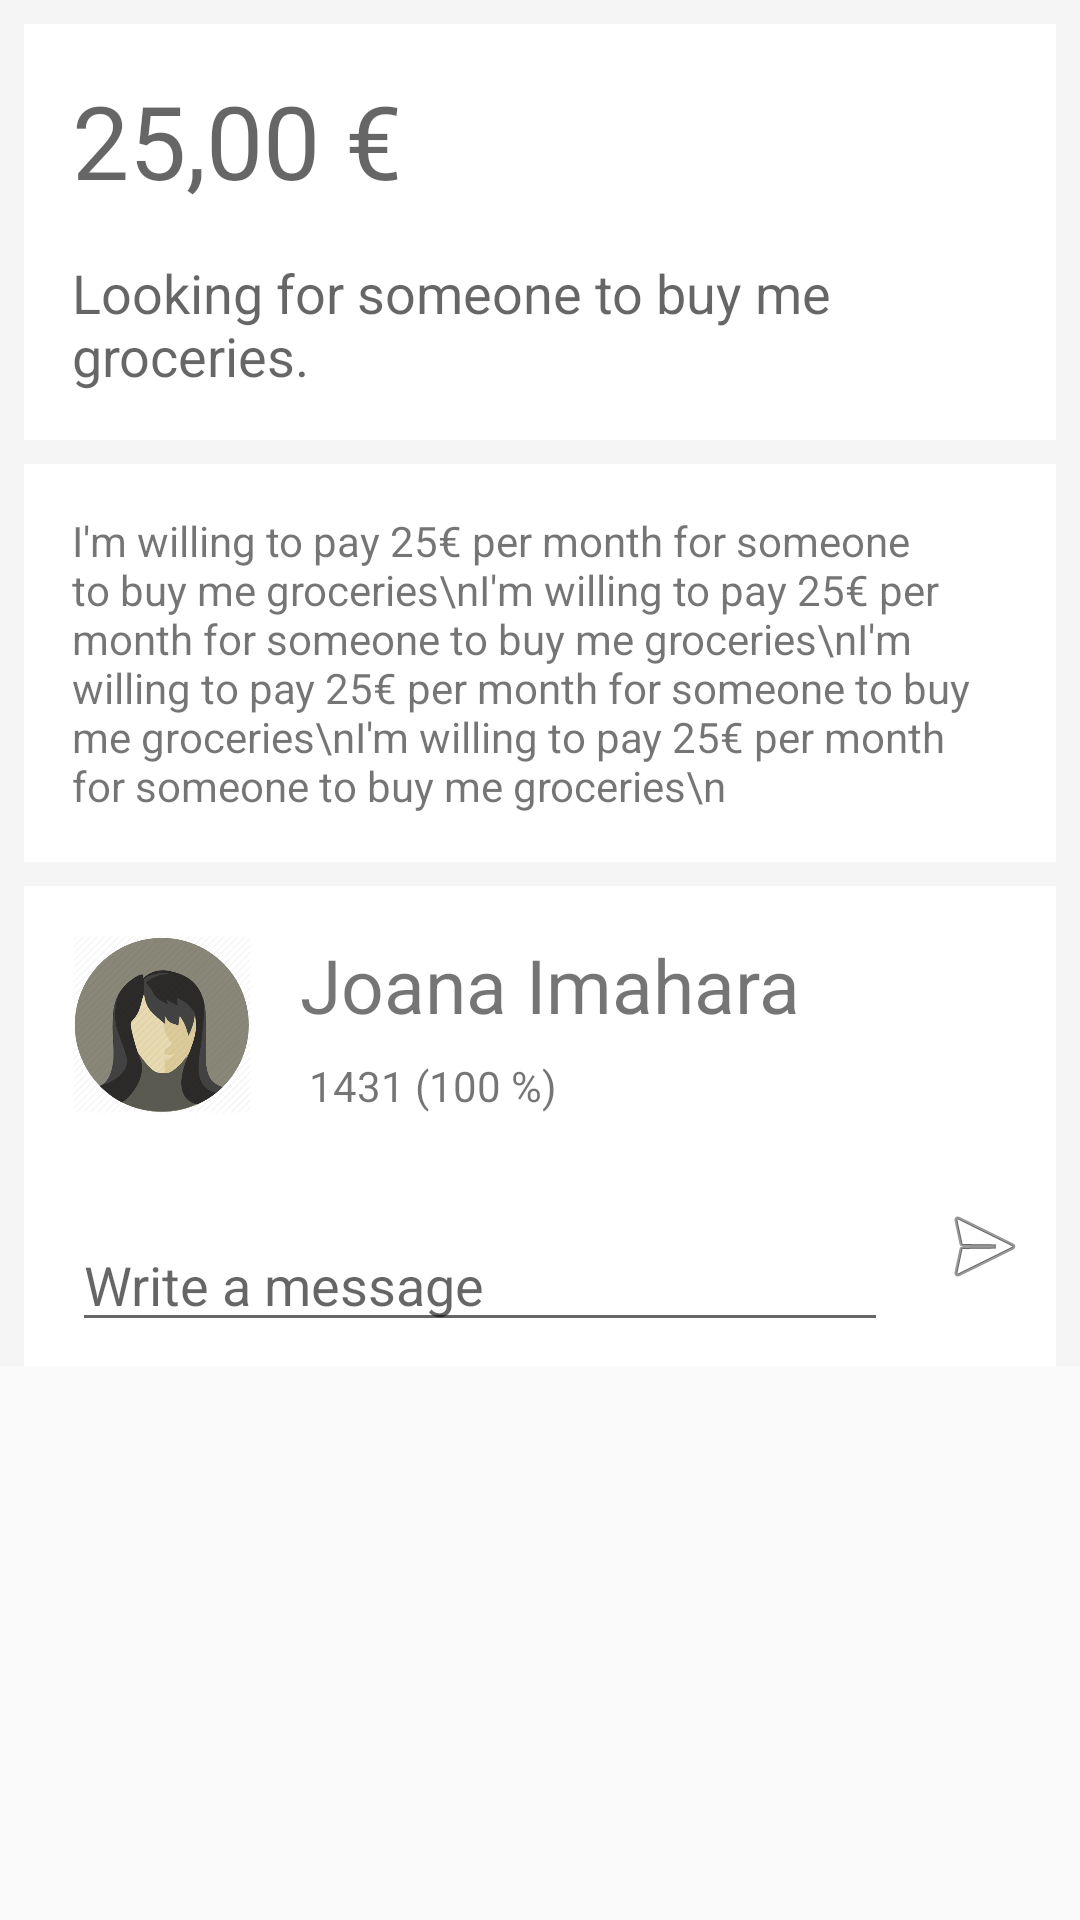

Point at icon controls on the screen. Image size 1080px×1920px, points as [x,y].
profile: [162,1025]
send: [985,1246]
